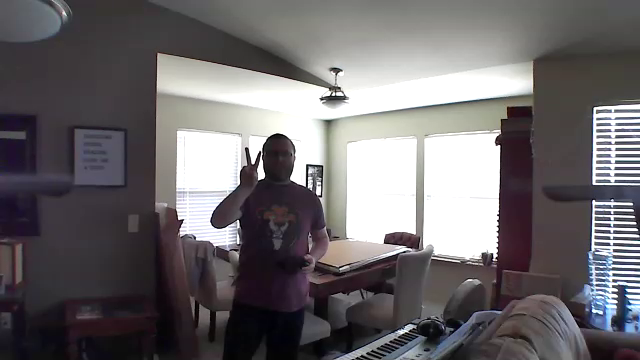peace: (234, 141, 268, 187)
